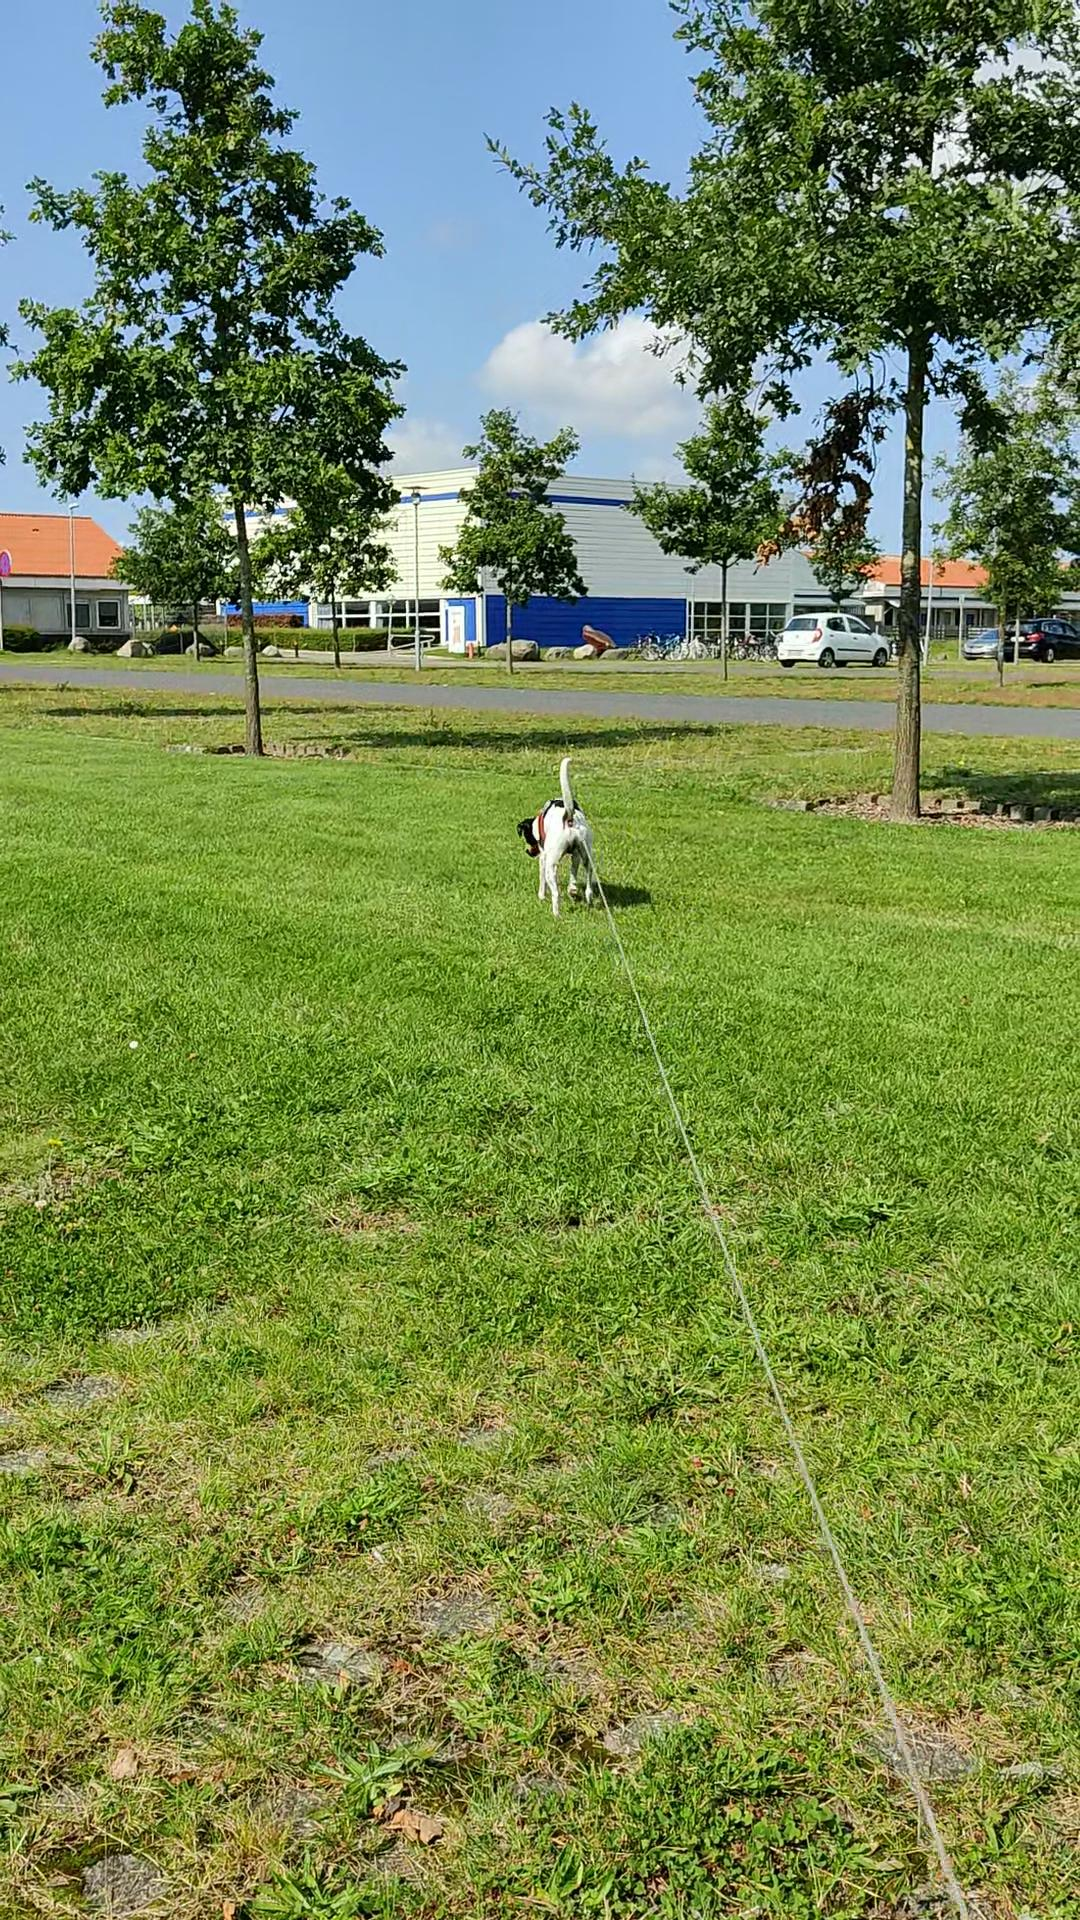Dog: (496, 742, 624, 918)
